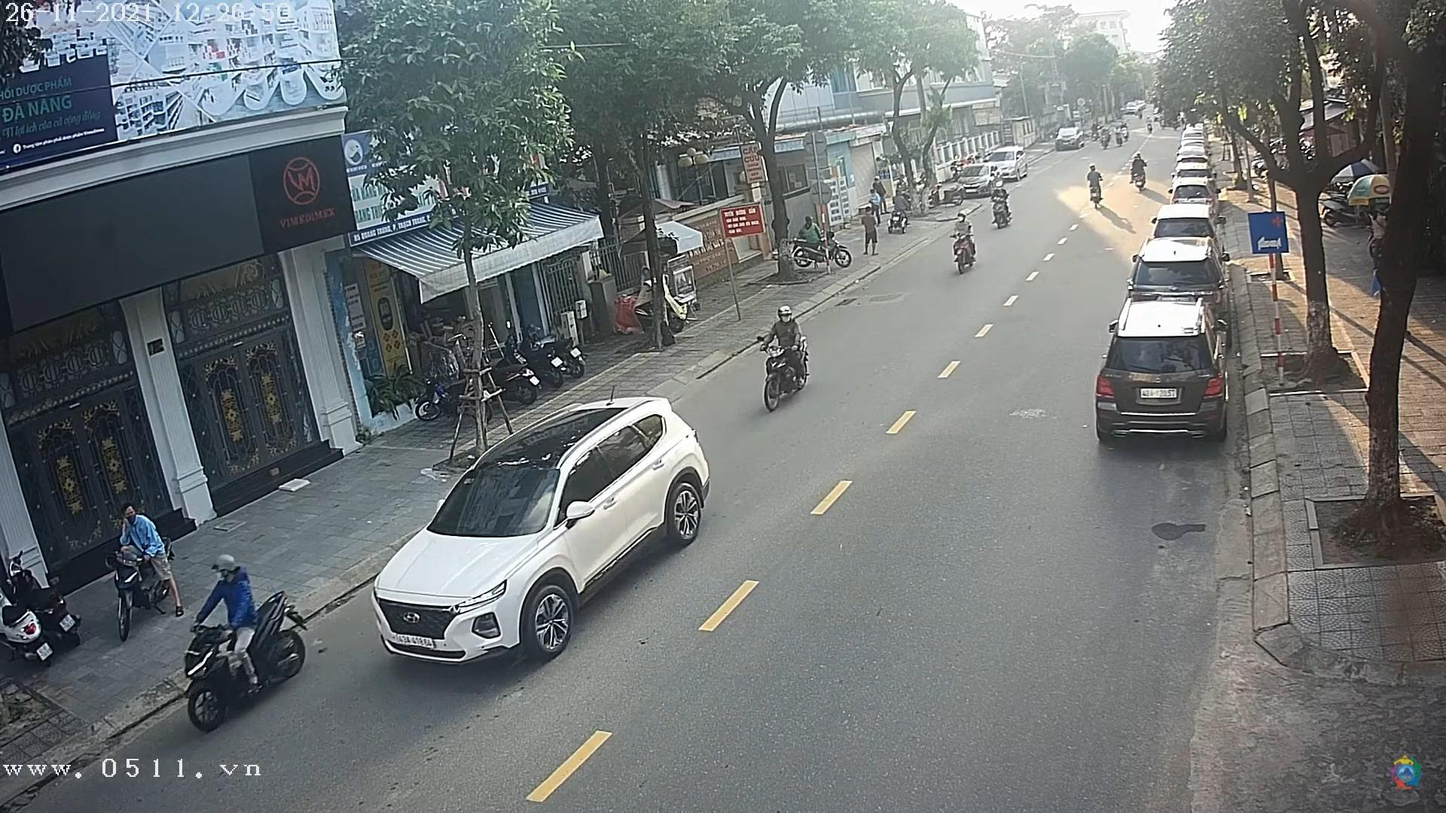car: (367, 394, 717, 669), (958, 154, 1004, 189)
motorbike: (178, 589, 309, 729), (758, 345, 812, 416), (947, 238, 975, 274)
